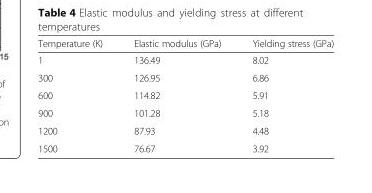table: (37, 37, 333, 153)
table column: (117, 37, 235, 153), (235, 37, 333, 153), (37, 37, 117, 153)
table column header: (37, 37, 333, 51)
table row: (37, 68, 333, 86), (37, 103, 333, 121), (37, 121, 333, 139), (37, 51, 333, 68), (37, 86, 333, 103), (37, 37, 333, 51), (37, 139, 333, 153)
